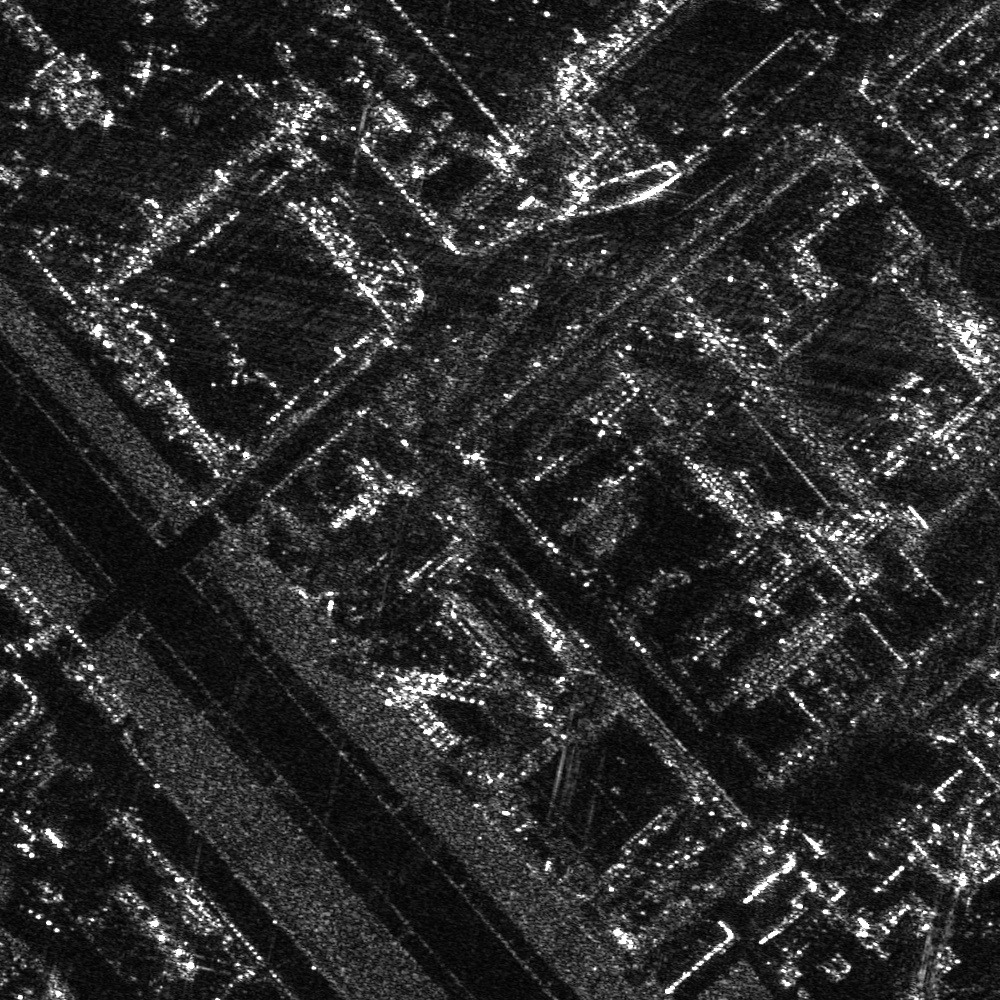Boeing737: (874, 938, 984, 999)
